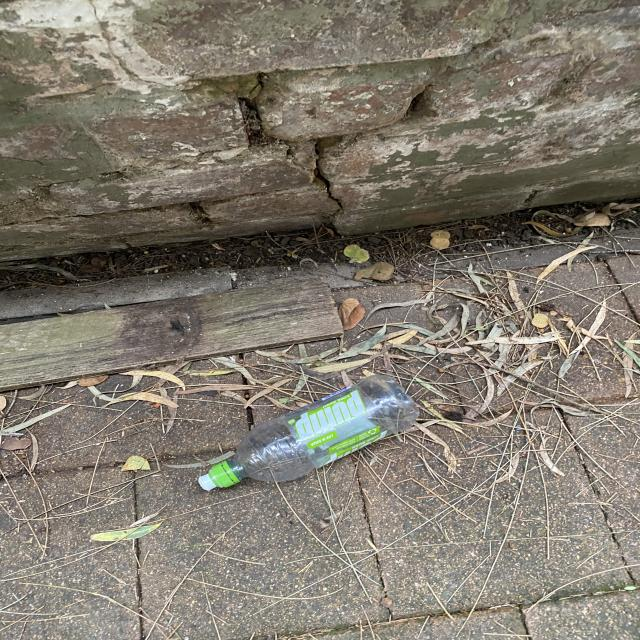bottle: (195, 365, 434, 492)
